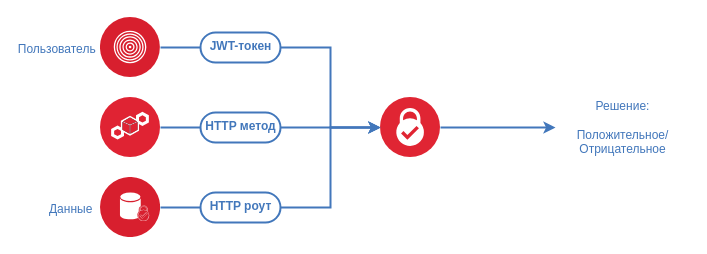
This 707x254 diagram has some shape labels left out. The shapes that lost their labels are listed below. From the top down, each one's centre as x and y in pixels, then its label:
[130,127]: Действие
[410,127]: Авторизация
